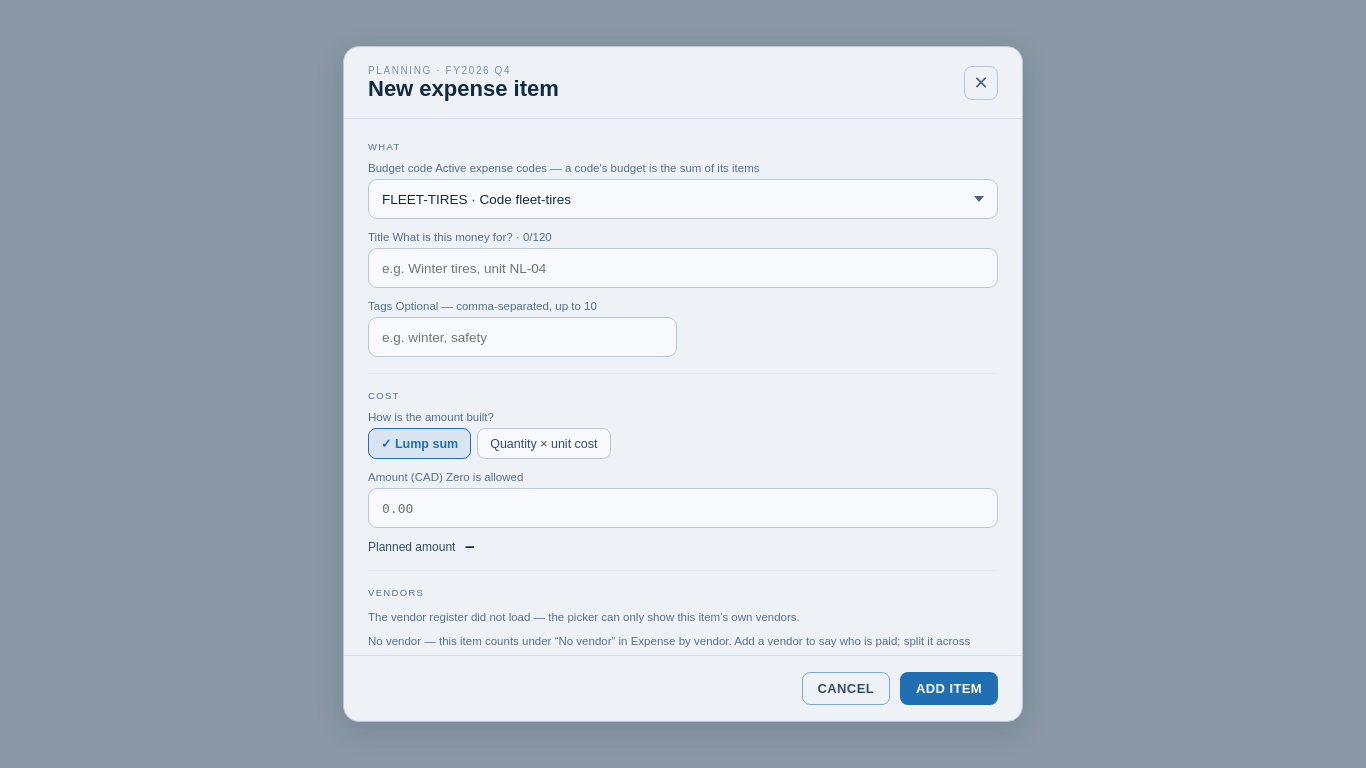
Test: BudgetItemFormModal — cost › toggles to quantity × unit cost and computes the total live
Click the button "Quantity × unit cost" at [544, 444], box [477, 428, 611, 459]
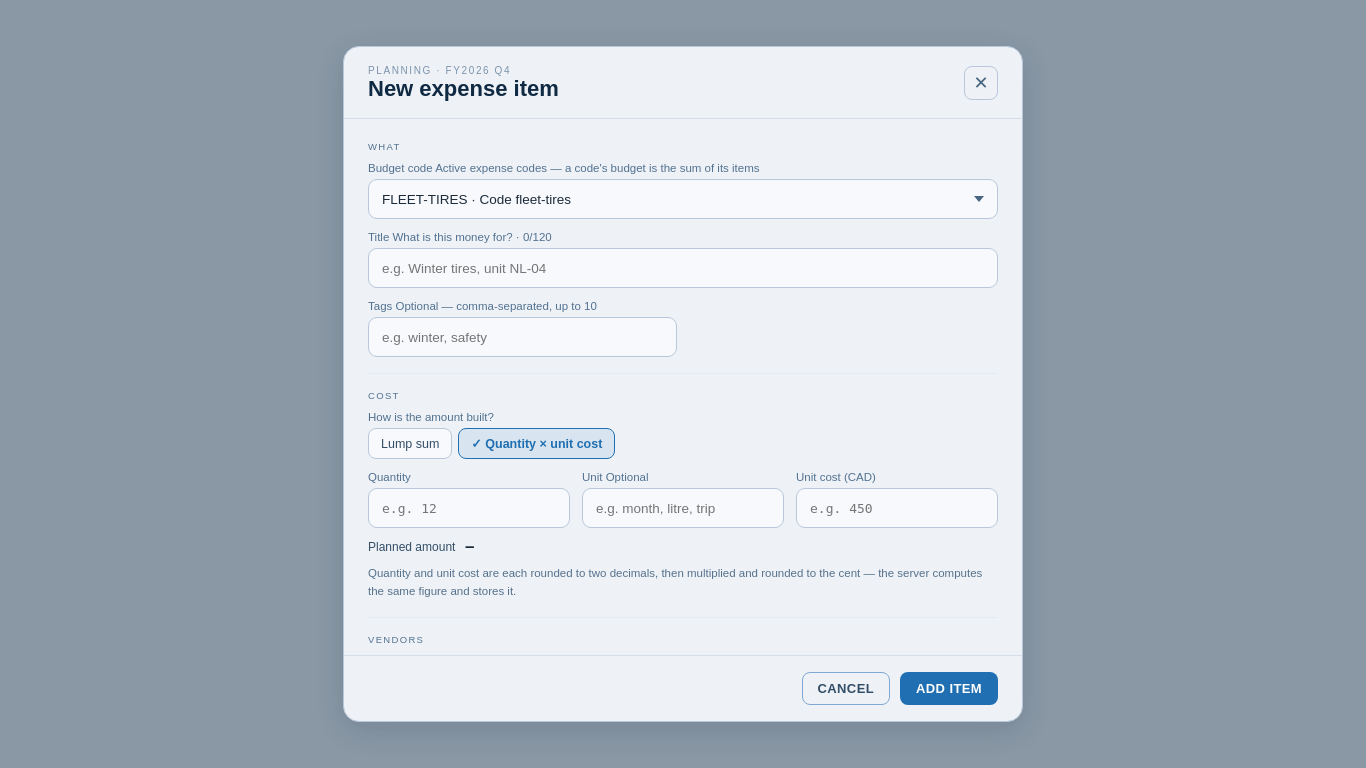
Expected: the button "✓ Quantity × unit cost" is pressed, [458, 428, 615, 459]
Type "12" into the number field with placeholder "e.g. 12" at [469, 508], box [368, 488, 570, 528]
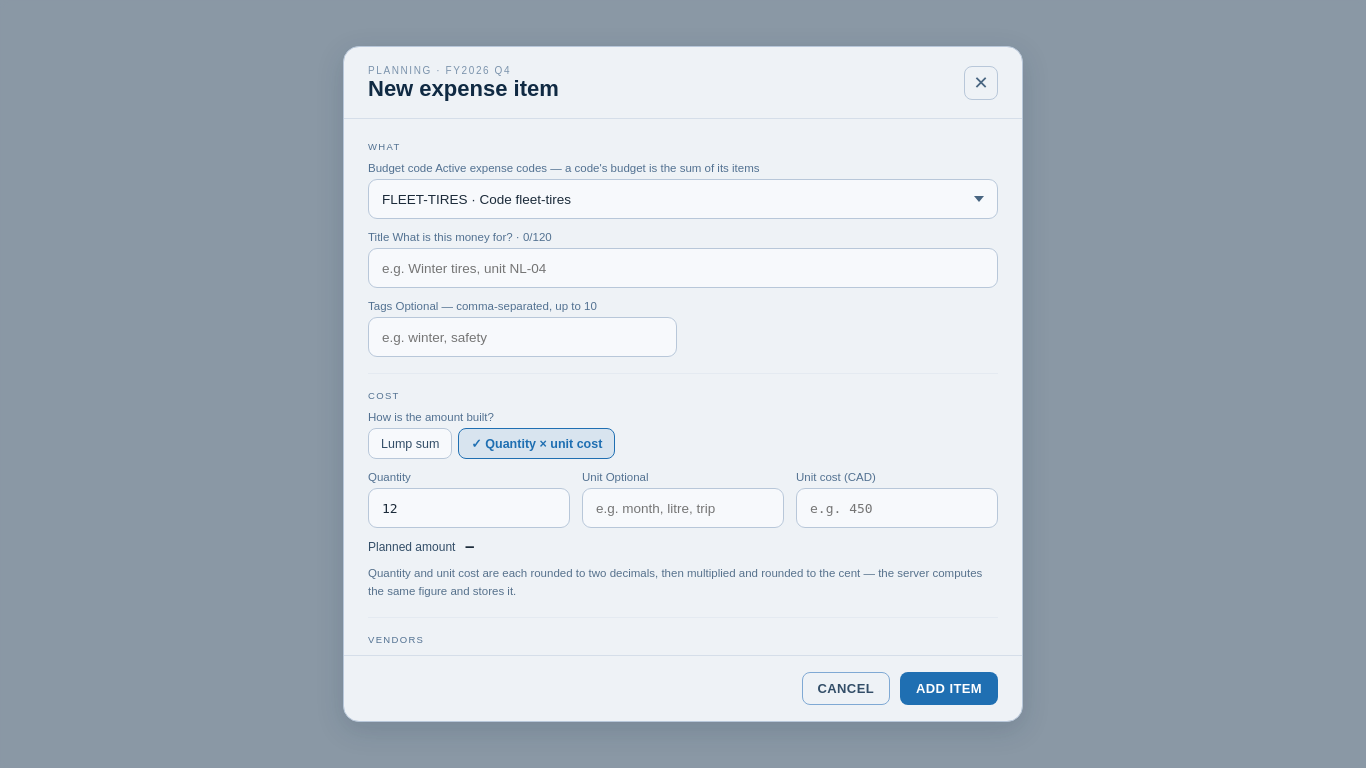
Type "450" into the number field with placeholder "e.g. 450" at [897, 508], box [796, 488, 998, 528]
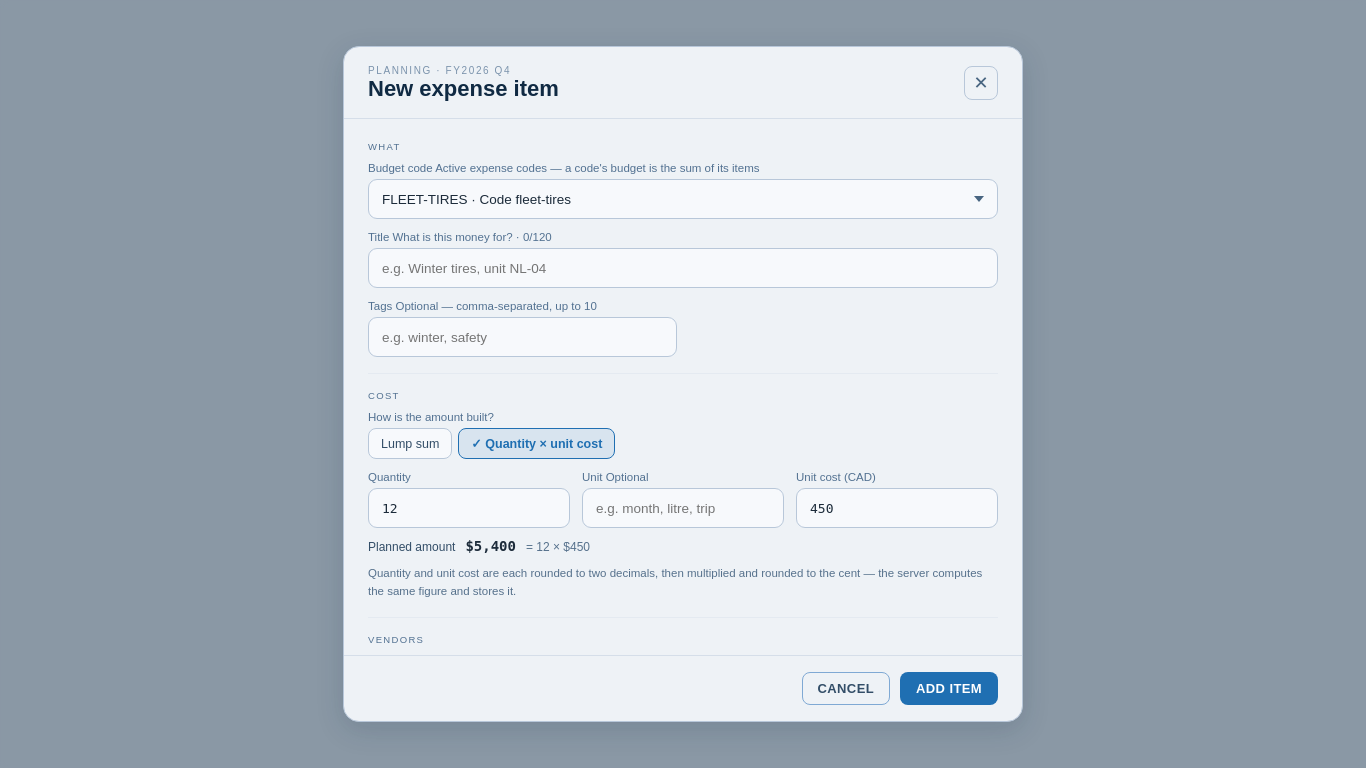
Expected: the element with test id "item-total" shows "$5,400", [465, 538, 516, 554]
Expected: the element with test id "item-total" shows "12 × $450", [536, 540, 590, 554]
Type "month" into the field with placeholder "e.g. month, litre, trip" at [683, 508], box [582, 488, 784, 528]
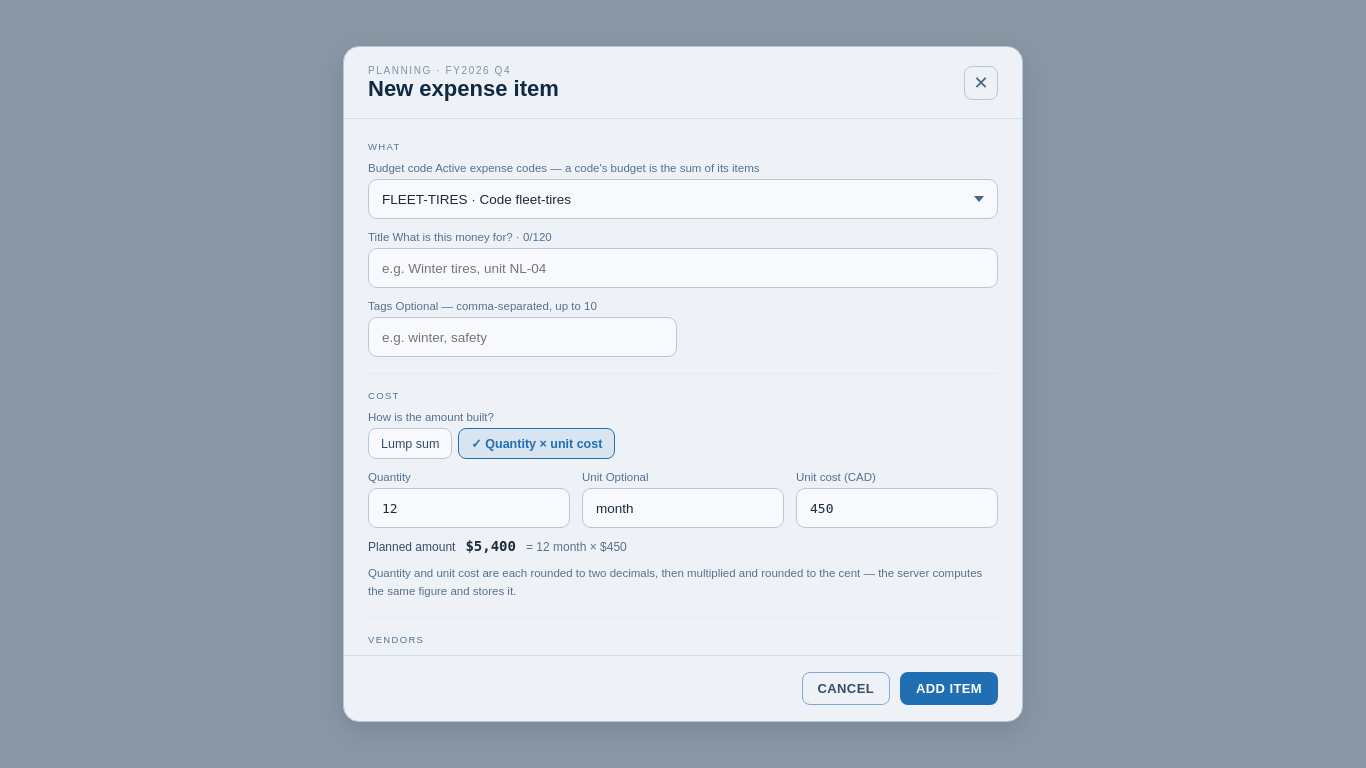
Expected: the element with test id "item-total" shows "12 month × $450", [536, 540, 627, 554]
